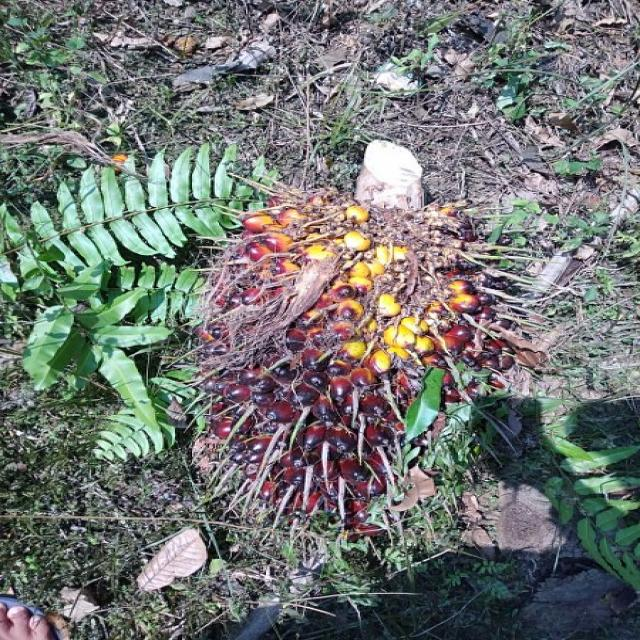fraksi 1: (136, 174, 500, 559)
